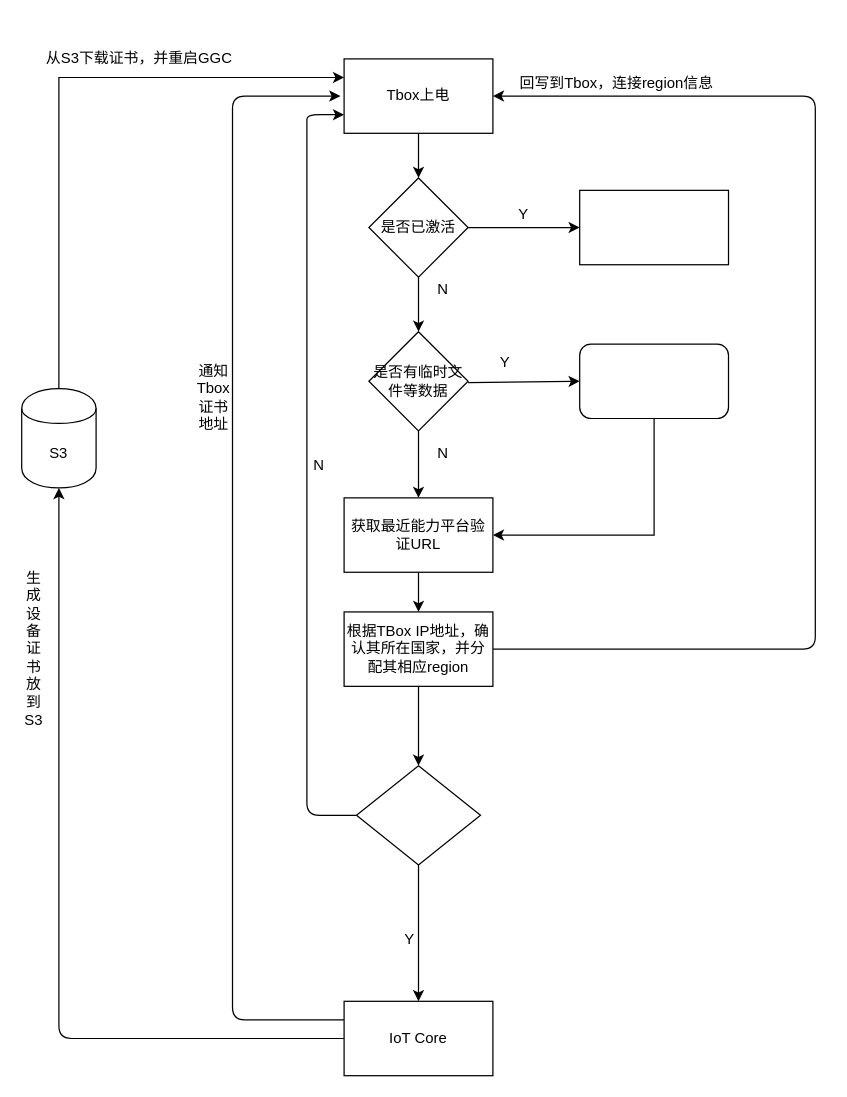
Some shapes in this 847 by 1097 pixel diagram are drawn without their labels. Each missing label, with the centre of its shape:
"下载更新连接模型及lamda，并启动相关业务" goes at point 653,227.
"清理临时文件等数据" goes at point 653,380.
"通过能力平台验证设备是否合法" goes at point 417,814.
